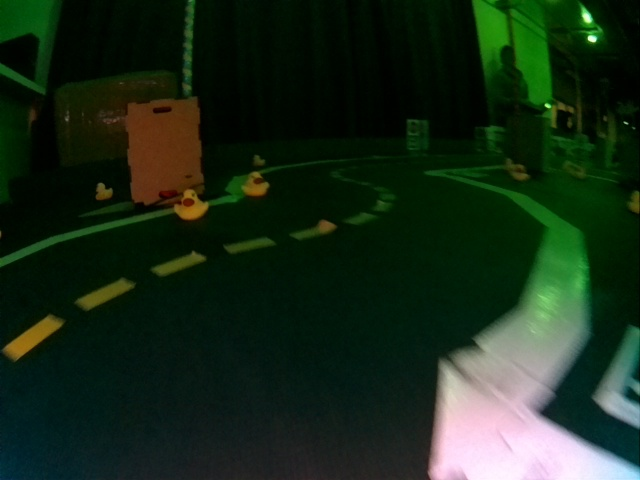Duckie: (174, 190, 207, 220), (242, 172, 269, 196), (95, 183, 112, 200), (627, 191, 640, 212), (511, 165, 527, 179), (254, 155, 264, 165), (506, 158, 516, 168)
QR code: (407, 135, 417, 148)
